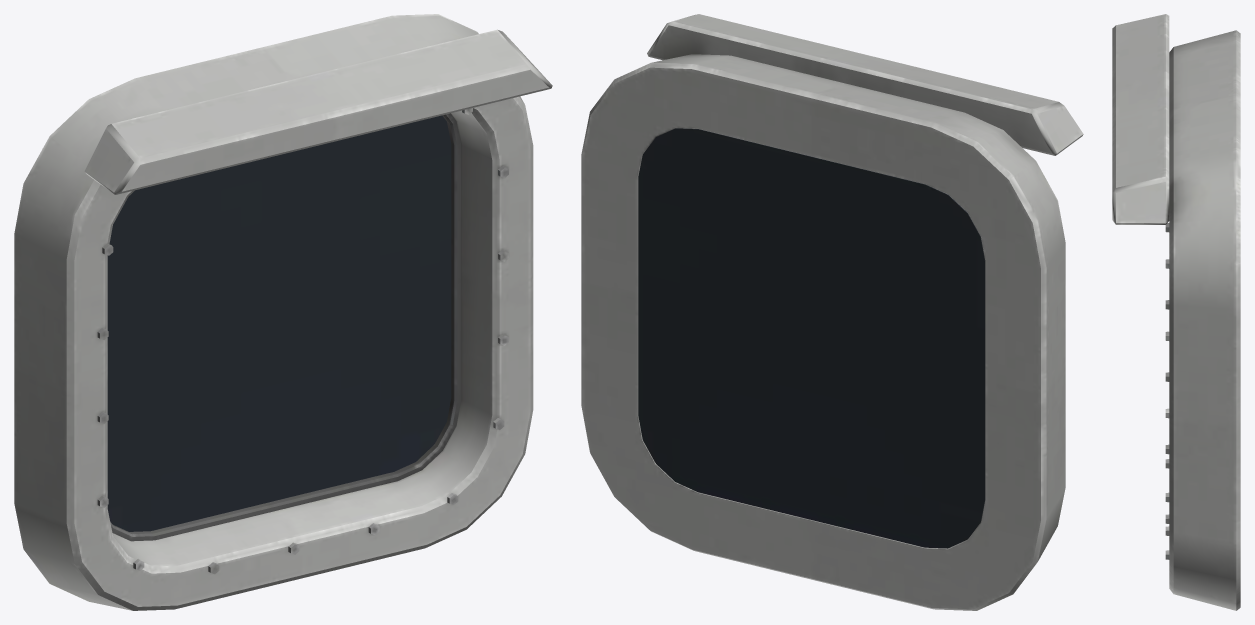
Rendered from port.glb.
3 views of the same model, side by side, from view 1: azimuth 30°, elevation 25°; view 2: azimuth 150°, elevation 25°; view 3: azimuth 270°, elevation 25° (orthographic). The views are drawn at different scales.
Visible parts, largest first — view 1: port; view 2: port; view 3: port.
Part boxes in pixels (bbox=[...]): port: bbox=[14, 14, 552, 610]; port: bbox=[581, 14, 1083, 610]; port: bbox=[1112, 14, 1240, 610].
Size of the model in its own units: 1.39 by 1.39 by 0.36.
1 material, 1 textured.
